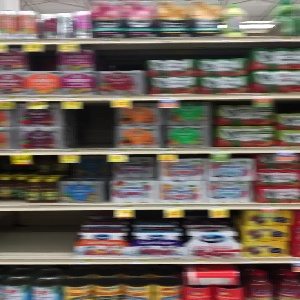void: (1, 207, 75, 262), (61, 99, 118, 151)
